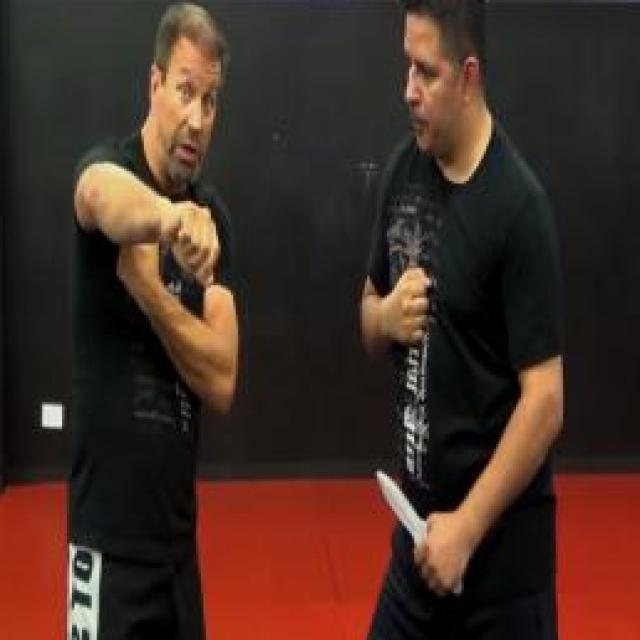knife: (369, 456, 468, 606)
